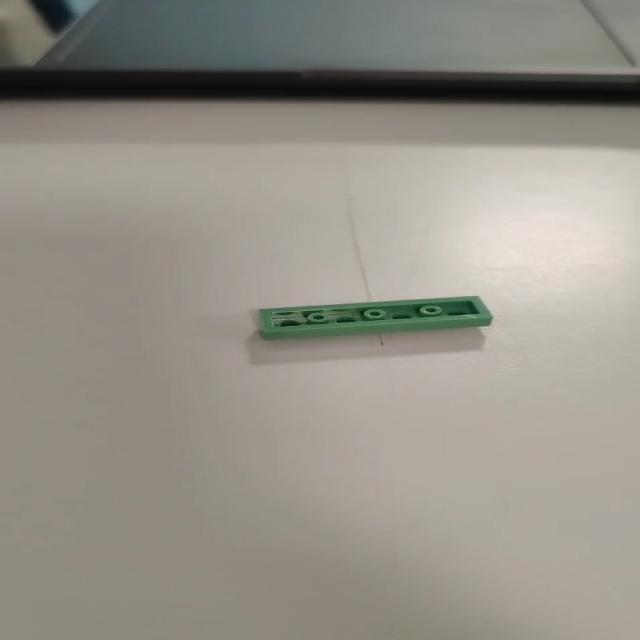C4x1x0: (243, 293, 498, 349)
